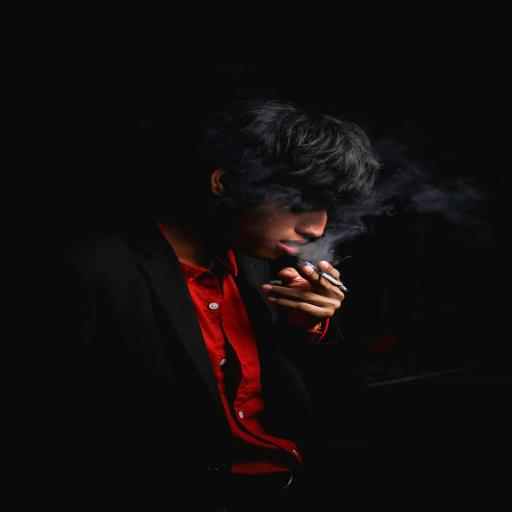terdeteksi merokok: (245, 181, 363, 300)
